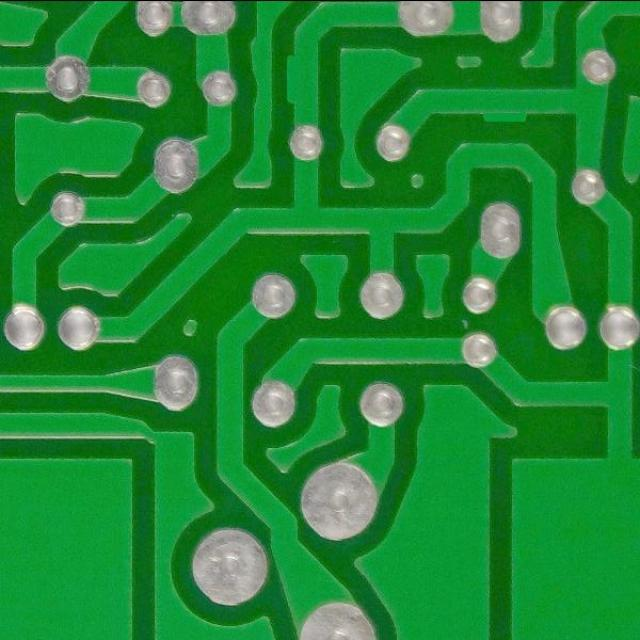spur: (472, 97, 541, 125), (281, 46, 308, 111)
